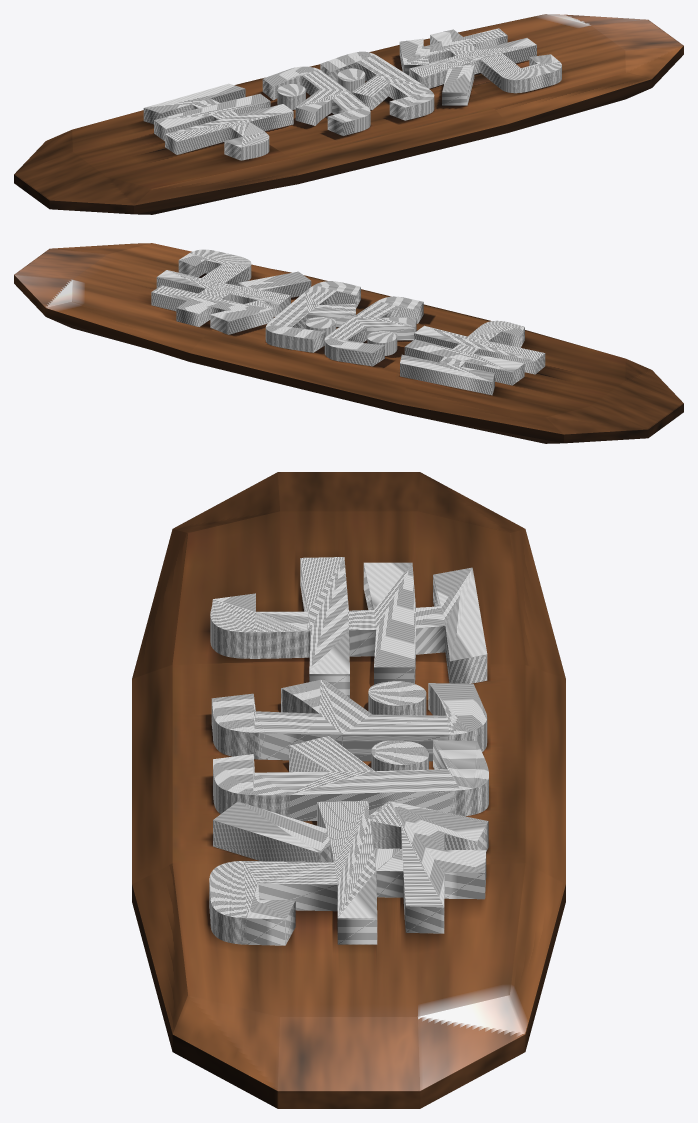
Rendered from tebasaki.fbx.
3 renders of one model, top to bottom at view 1: azimuth 30°, elevation 25°; view 2: azimuth 150°, elevation 25°; view 3: azimuth 270°, elevation 25°, orthographic. The views are drawn at different scales.
Visible parts, largest first — view 1: 手羽先看板, 手羽先; view 2: 手羽先看板, 手羽先; view 3: 手羽先看板, 手羽先.
Boxes of the visible parts, bbox=[...] form: 手羽先看板: bbox=[14, 14, 683, 214]; 手羽先: bbox=[143, 28, 561, 160]; 手羽先看板: bbox=[14, 243, 683, 443]; 手羽先: bbox=[151, 249, 545, 395]; 手羽先看板: bbox=[132, 472, 565, 1108]; 手羽先: bbox=[209, 557, 488, 945].
Bounding box in the file's own units: 503 × 30 × 149.
